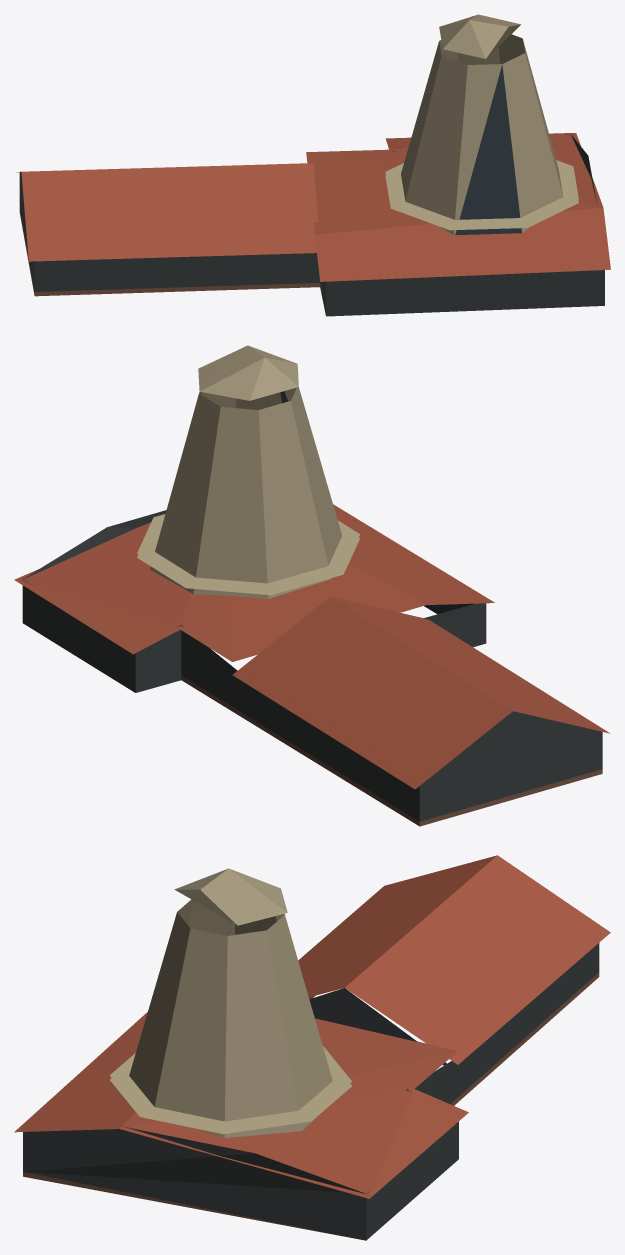
Rendered from d-admiraal.lod2.glb.
3 views of the same model, one above another, from view 1: azimuth 30°, elevation 25°; view 2: azimuth 150°, elevation 25°; view 3: azimuth 270°, elevation 25° (orthographic). The views are drawn at different scales.
Visible parts, largest first — view 1: lod2; view 2: lod2; view 3: lod2.
Part boxes in pixels (x1=…): lod2: x1=16, y1=14, x2=610, y2=316; lod2: x1=14, y1=345, x2=610, y2=826; lod2: x1=14, y1=855, x2=610, y2=1240.
Bounding box in the file's own units: 33.07 × 13.7 × 26.51.
